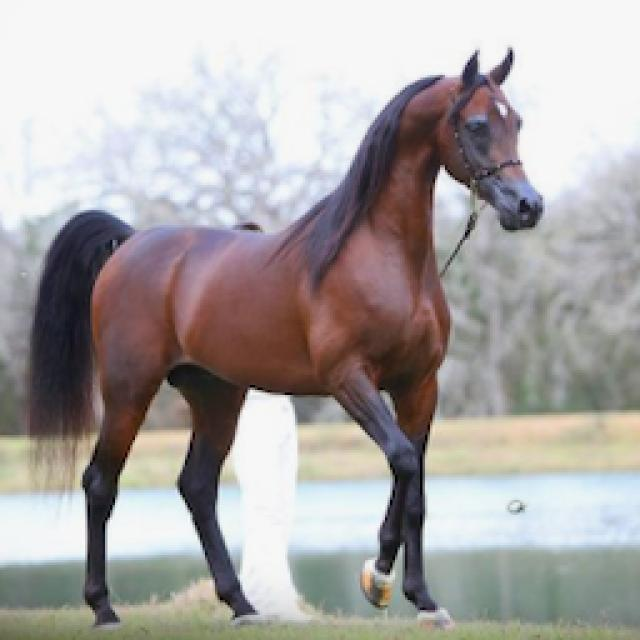Horse: (18, 42, 548, 636)
